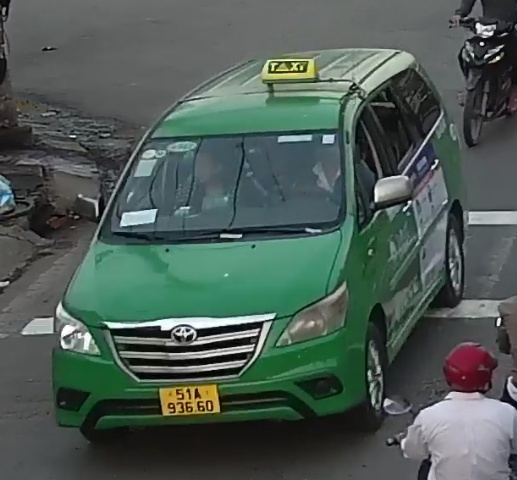vehicle plate: (156, 383, 224, 419)
